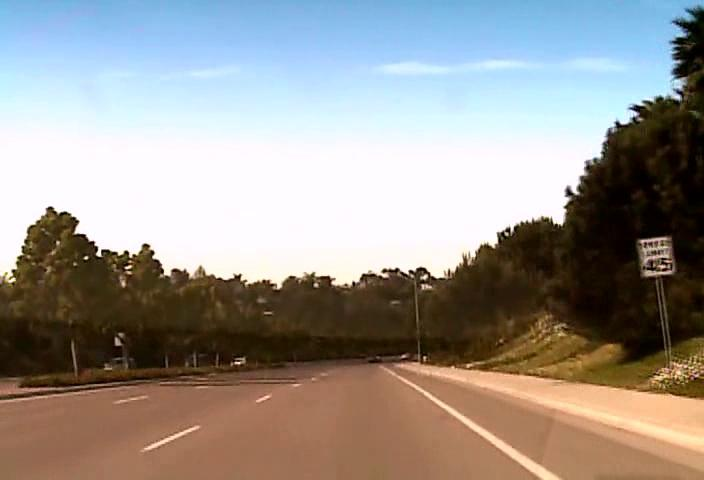speedLimit45: (638, 236, 675, 277)
